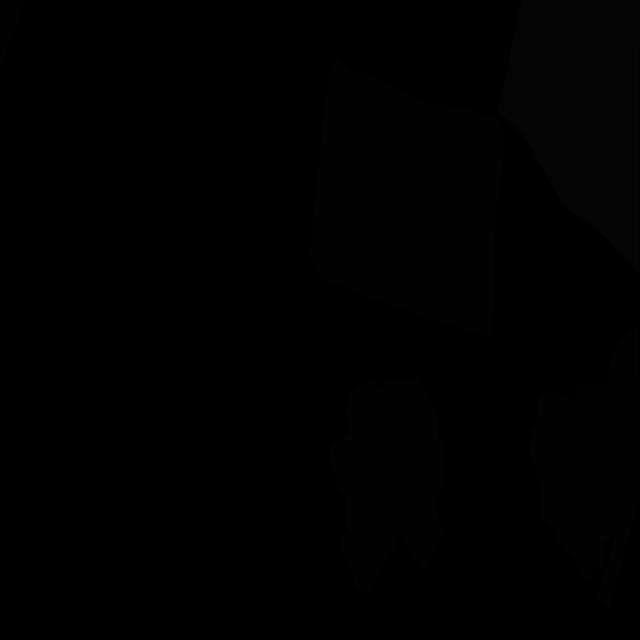cardboard: (309, 57, 506, 340), (528, 324, 640, 611), (329, 376, 444, 597), (0, 0, 25, 72)
soft_plastic: (498, 0, 640, 273)
